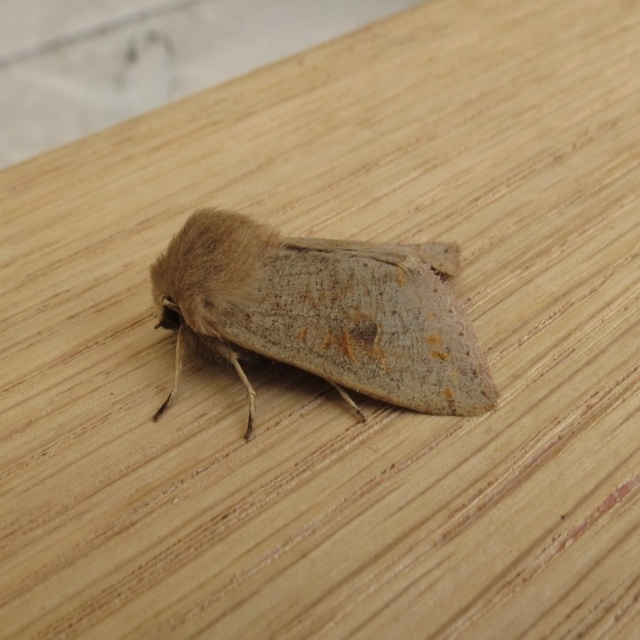Moths and butterflies: (146, 203, 501, 440)
